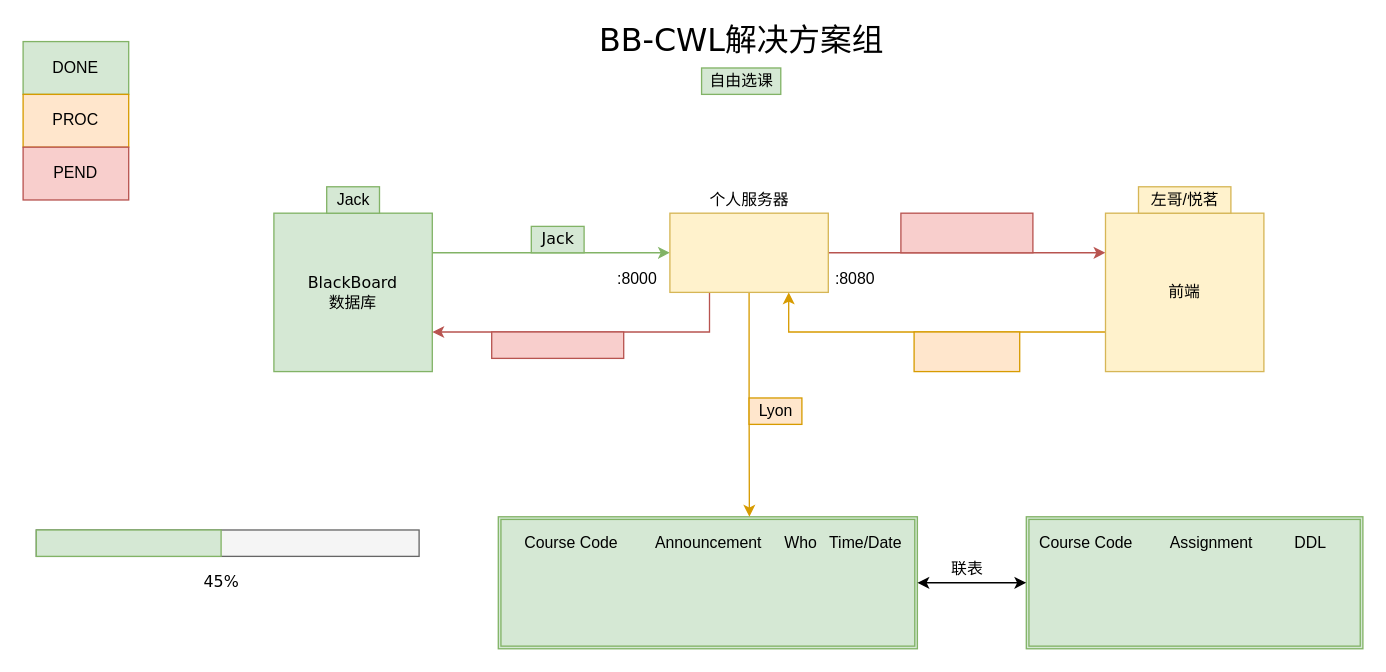
Image size: 1386x672. Some labels were removed from this diagram. The shapes that lost their labels are listed below. From the top down, each one's centre as x and y in pixels, then its label:
(748,252): MySQL
(966,232): MySQL更新 Jack/Lyon/Ober
(557,344): 每30m监听一次
(966,351): 访问即调用 靖元
